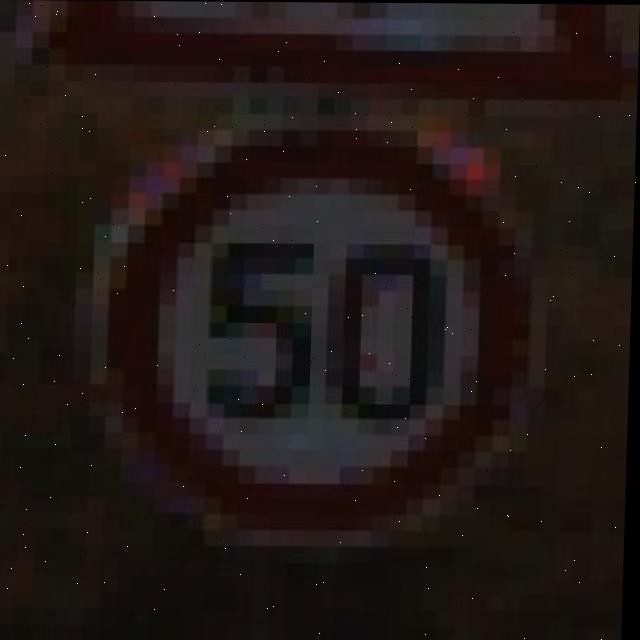Speed limit 50: (84, 112, 541, 547)
